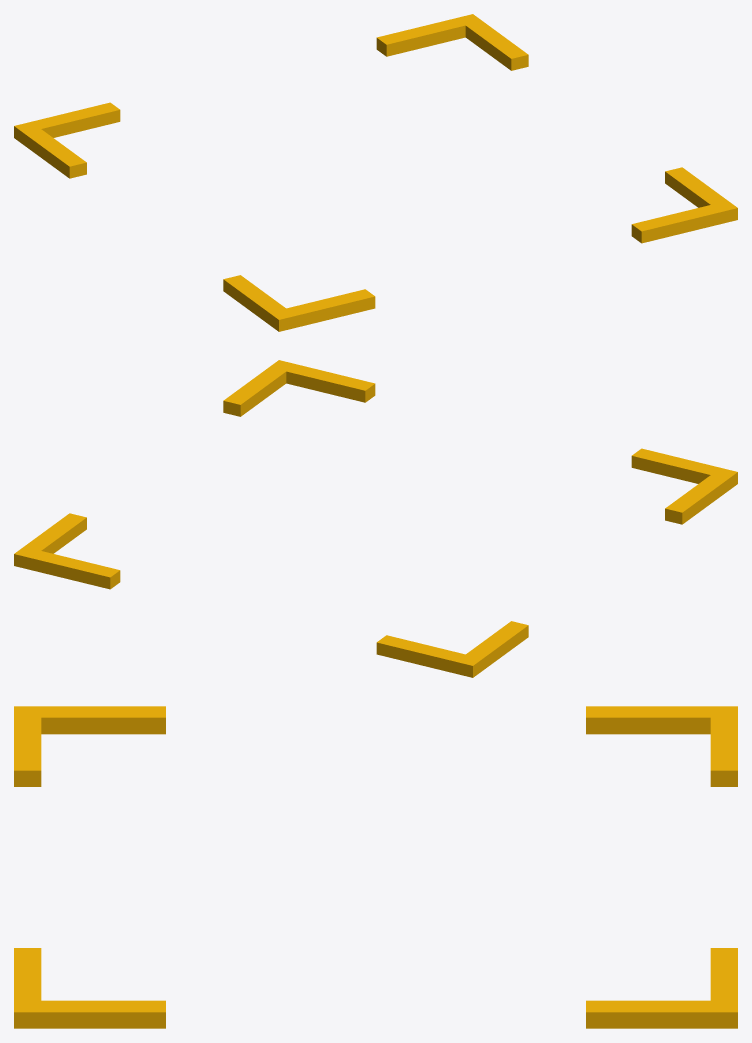
Rendered from fleet_high_light.glb.
3 views of the same model, one above another, from view 1: azimuth 30°, elevation 25°; view 2: azimuth 150°, elevation 25°; view 3: azimuth 270°, elevation 25° (orthographic). The views are drawn at different scales.
Parts seen in each view (by area): view 1: Cube; view 2: Cube; view 3: Cube.
Boxes of the visible parts, <box> form: Cube: <box>14,14,737,331</box>; Cube: <box>14,360,737,677</box>; Cube: <box>14,706,737,1028</box>.
Size of the model in its own units: 10 by 0.25 by 10.
